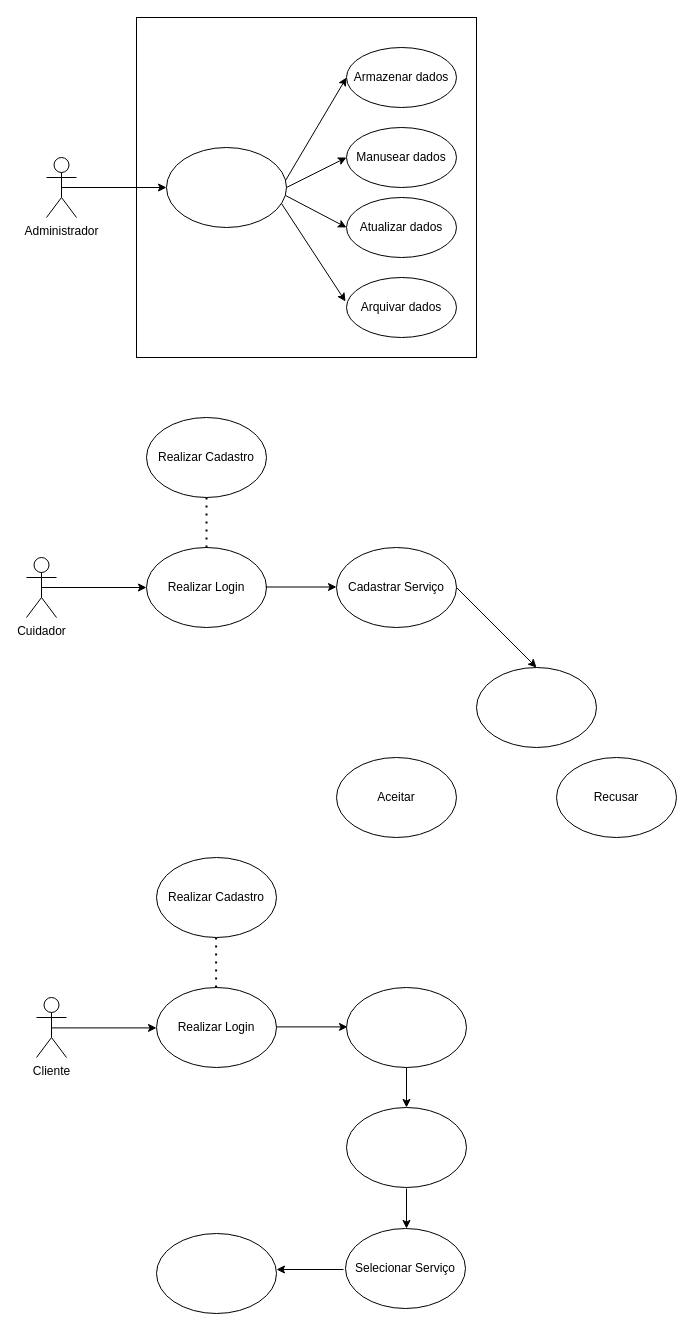
The diagram is 694 pixels wide and 1331 high, and some of its shapes have lost their labels. Each missing label, with the centre of its shape:
"Comunicar-se com o cliente" goes at pixel 536 707.
"Efetuar o Pagamento do serviço" goes at pixel 216 1273.
"Gerenciar dados" goes at pixel 226 187.
"Pesquisar Cuidador" goes at pixel 406 1147.
"Selecionar Região" goes at pixel 406 1027.
